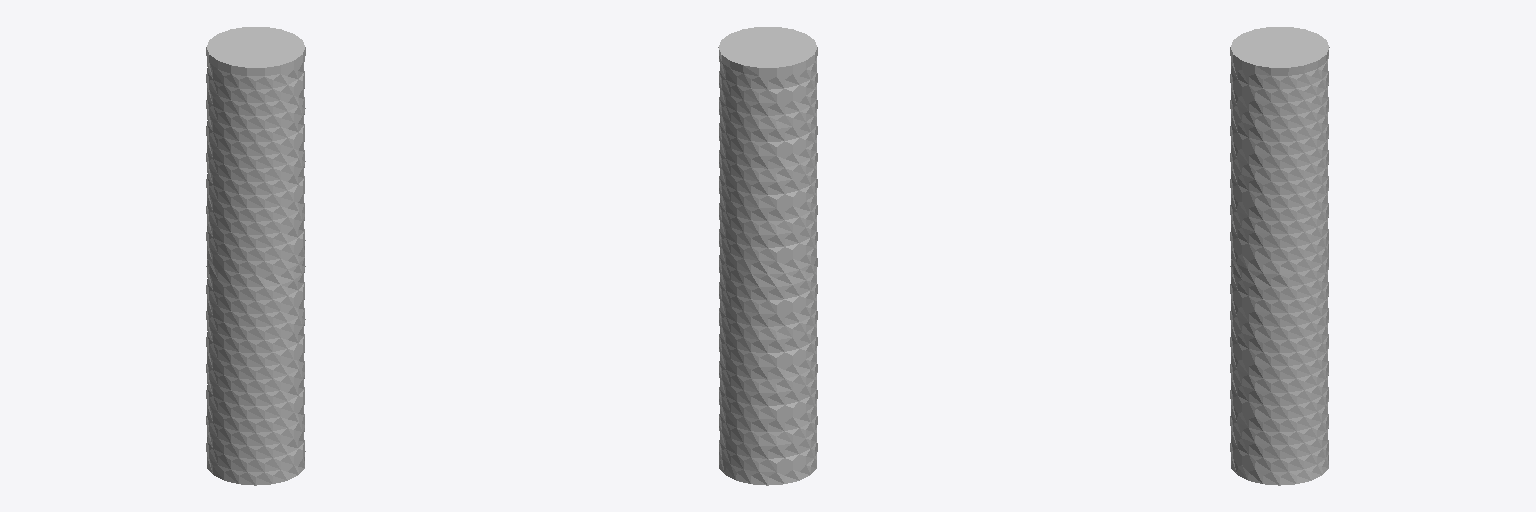
Rendered from hex_cylinder.1.obj.
3 renders of one model, left to right at view 1: azimuth 30°, elevation 25°; view 2: azimuth 150°, elevation 25°; view 3: azimuth 270°, elevation 25°, orthographic.
Visible parts, largest first — view 1: Cylinder_Cylinder.006; view 2: Cylinder_Cylinder.006; view 3: Cylinder_Cylinder.006.
Part boxes in pixels (bbox=[...]): Cylinder_Cylinder.006: bbox=[206, 27, 305, 485]; Cylinder_Cylinder.006: bbox=[718, 27, 817, 485]; Cylinder_Cylinder.006: bbox=[1230, 27, 1329, 485].
Bounding box in the file's own units: 2 × 9.3 × 2.